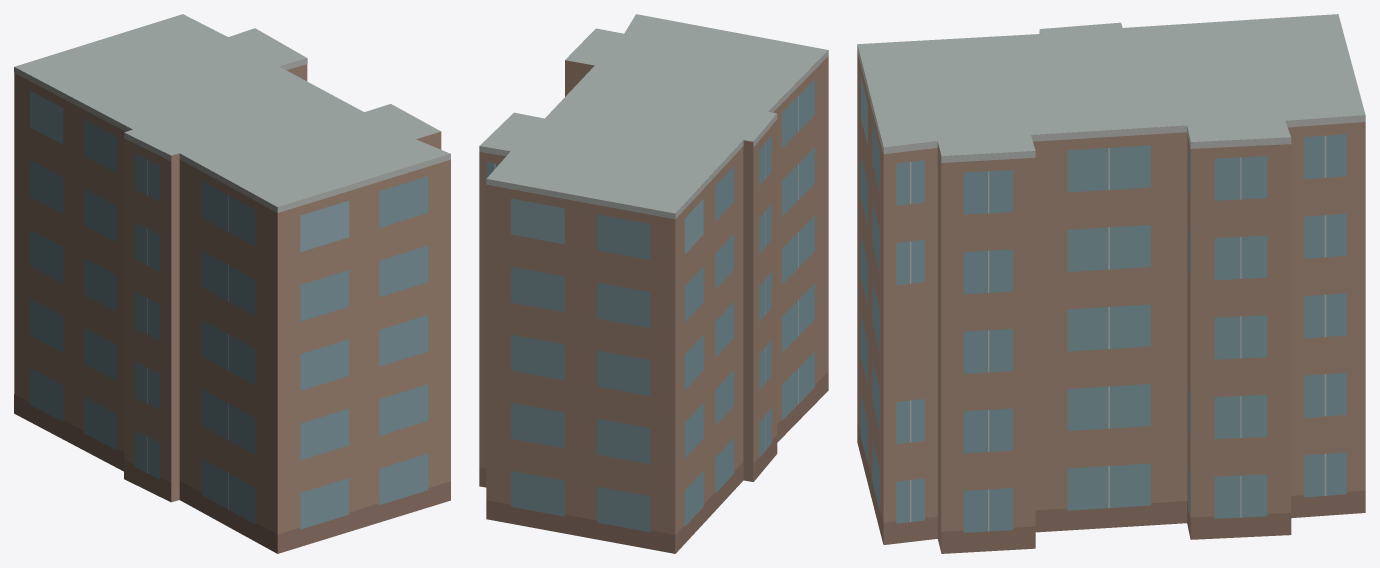
Rendered from survey-upis-32991006.glb.
3 views of the same model, side by side, from view 1: azimuth 30°, elevation 25°; view 2: azimuth 150°, elevation 25°; view 3: azimuth 270°, elevation 25° (orthographic). The views are drawn at different scales.
Visible parts, largest first — view 1: survey-upis-32991006.tmp; view 2: survey-upis-32991006.tmp; view 3: survey-upis-32991006.tmp.
Boxes of the visible parts, left/top/right/bottom form: survey-upis-32991006.tmp: left=14, top=14, right=450, bottom=553; survey-upis-32991006.tmp: left=479, top=14, right=828, bottom=553; survey-upis-32991006.tmp: left=857, top=14, right=1365, bottom=553.
Size of the model in its own units: 10.98 by 14.3 by 16.58.
